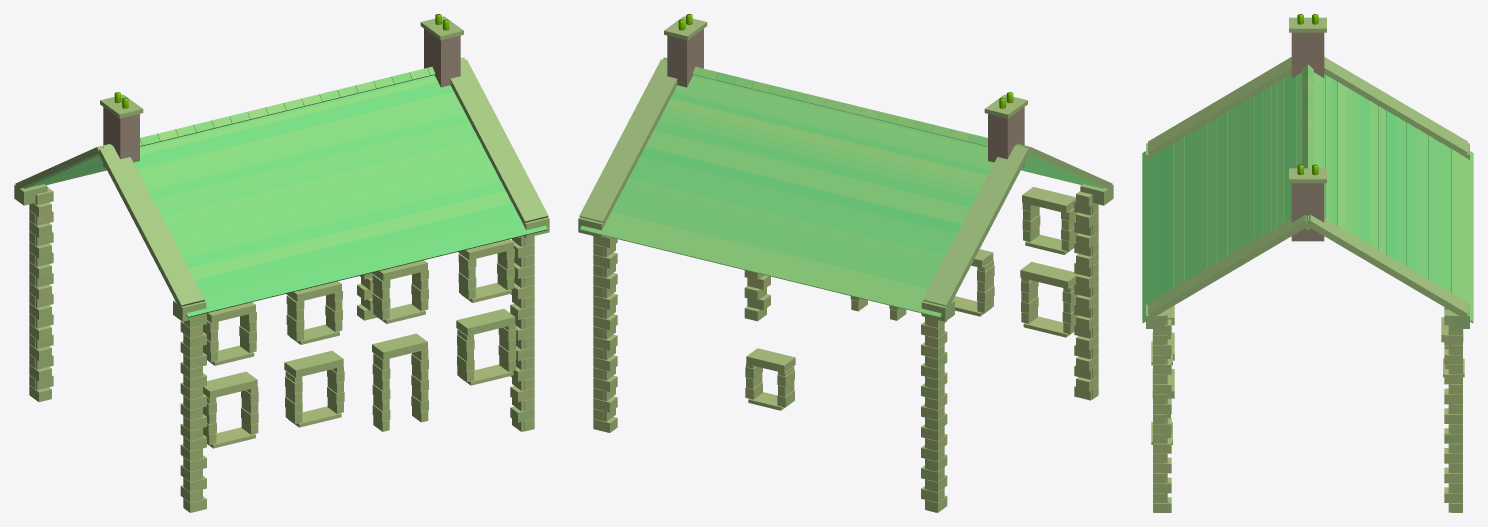
Rendered from SM_Bld_161_Stone.glb.
The picture shows the model from 3 angles, left to right: view 1: azimuth 30°, elevation 25°; view 2: azimuth 150°, elevation 25°; view 3: azimuth 270°, elevation 25°; orthographic projection. The views are drawn at different scales.
Parts seen in each view (by area): view 1: SM_Bld_161_Stone; view 2: SM_Bld_161_Stone; view 3: SM_Bld_161_Stone.
Boxes of the visible parts, bbox=[...] form: SM_Bld_161_Stone: bbox=[14, 14, 549, 512]; SM_Bld_161_Stone: bbox=[578, 14, 1113, 512]; SM_Bld_161_Stone: bbox=[1142, 14, 1473, 512].
Bounding box in the file's own units: 11.22 × 10.36 × 9.11.
